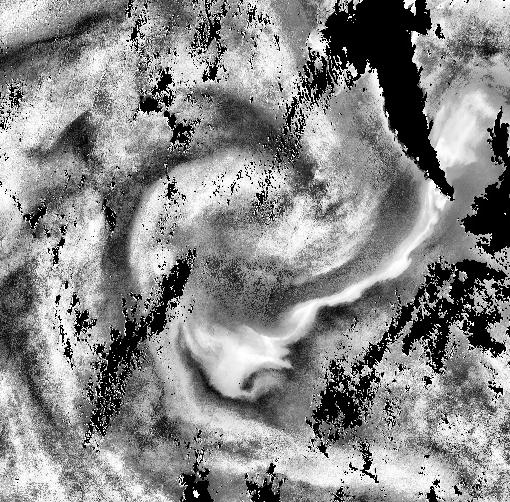AE: (111, 111, 369, 420)
